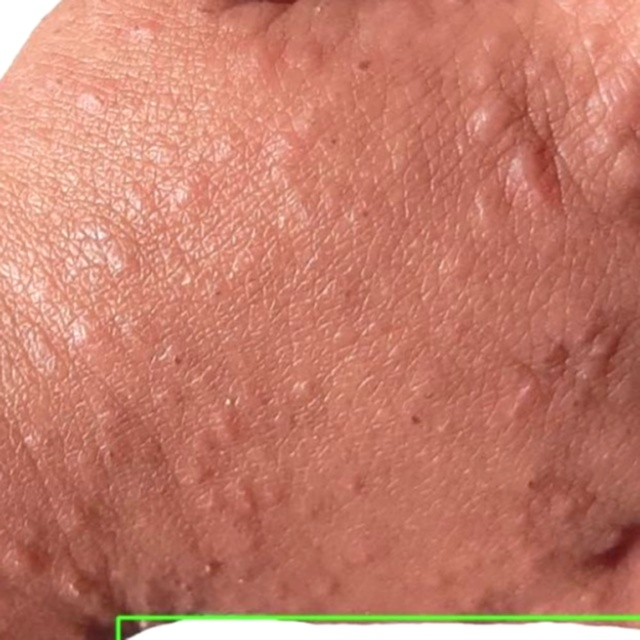Contact Dermatitis: (118, 617, 639, 639)
